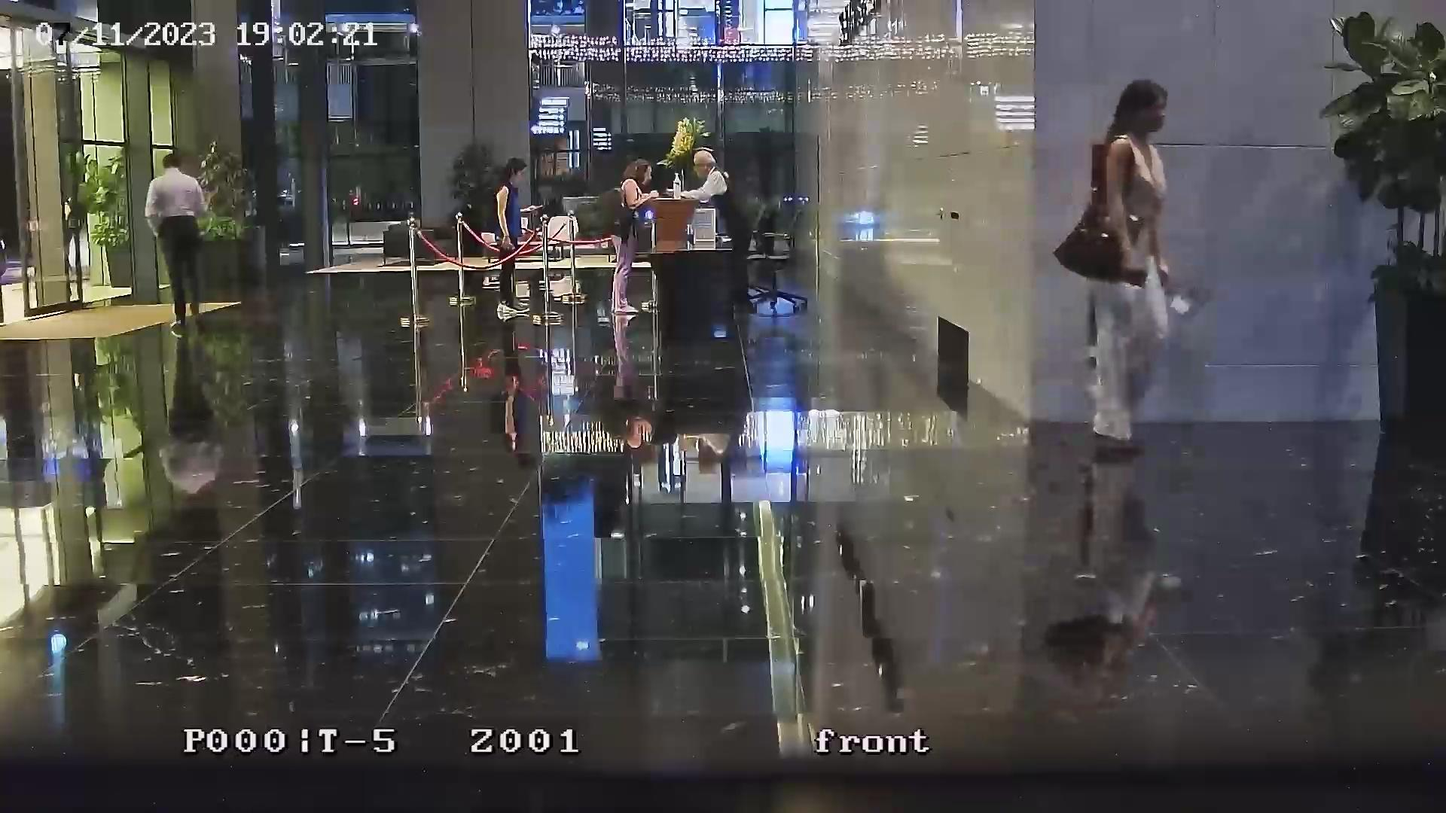person: (1069, 78, 1170, 455), (675, 148, 750, 317), (145, 151, 209, 330), (609, 157, 663, 315), (494, 157, 529, 317)
